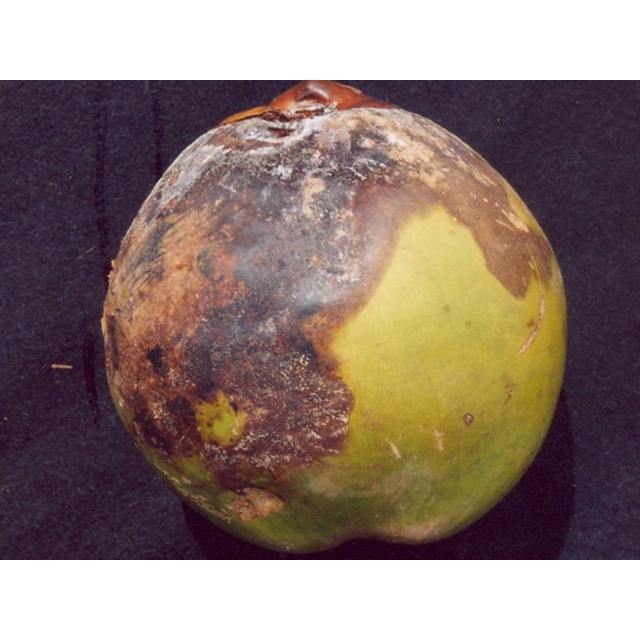damaged: (99, 80, 569, 558)
